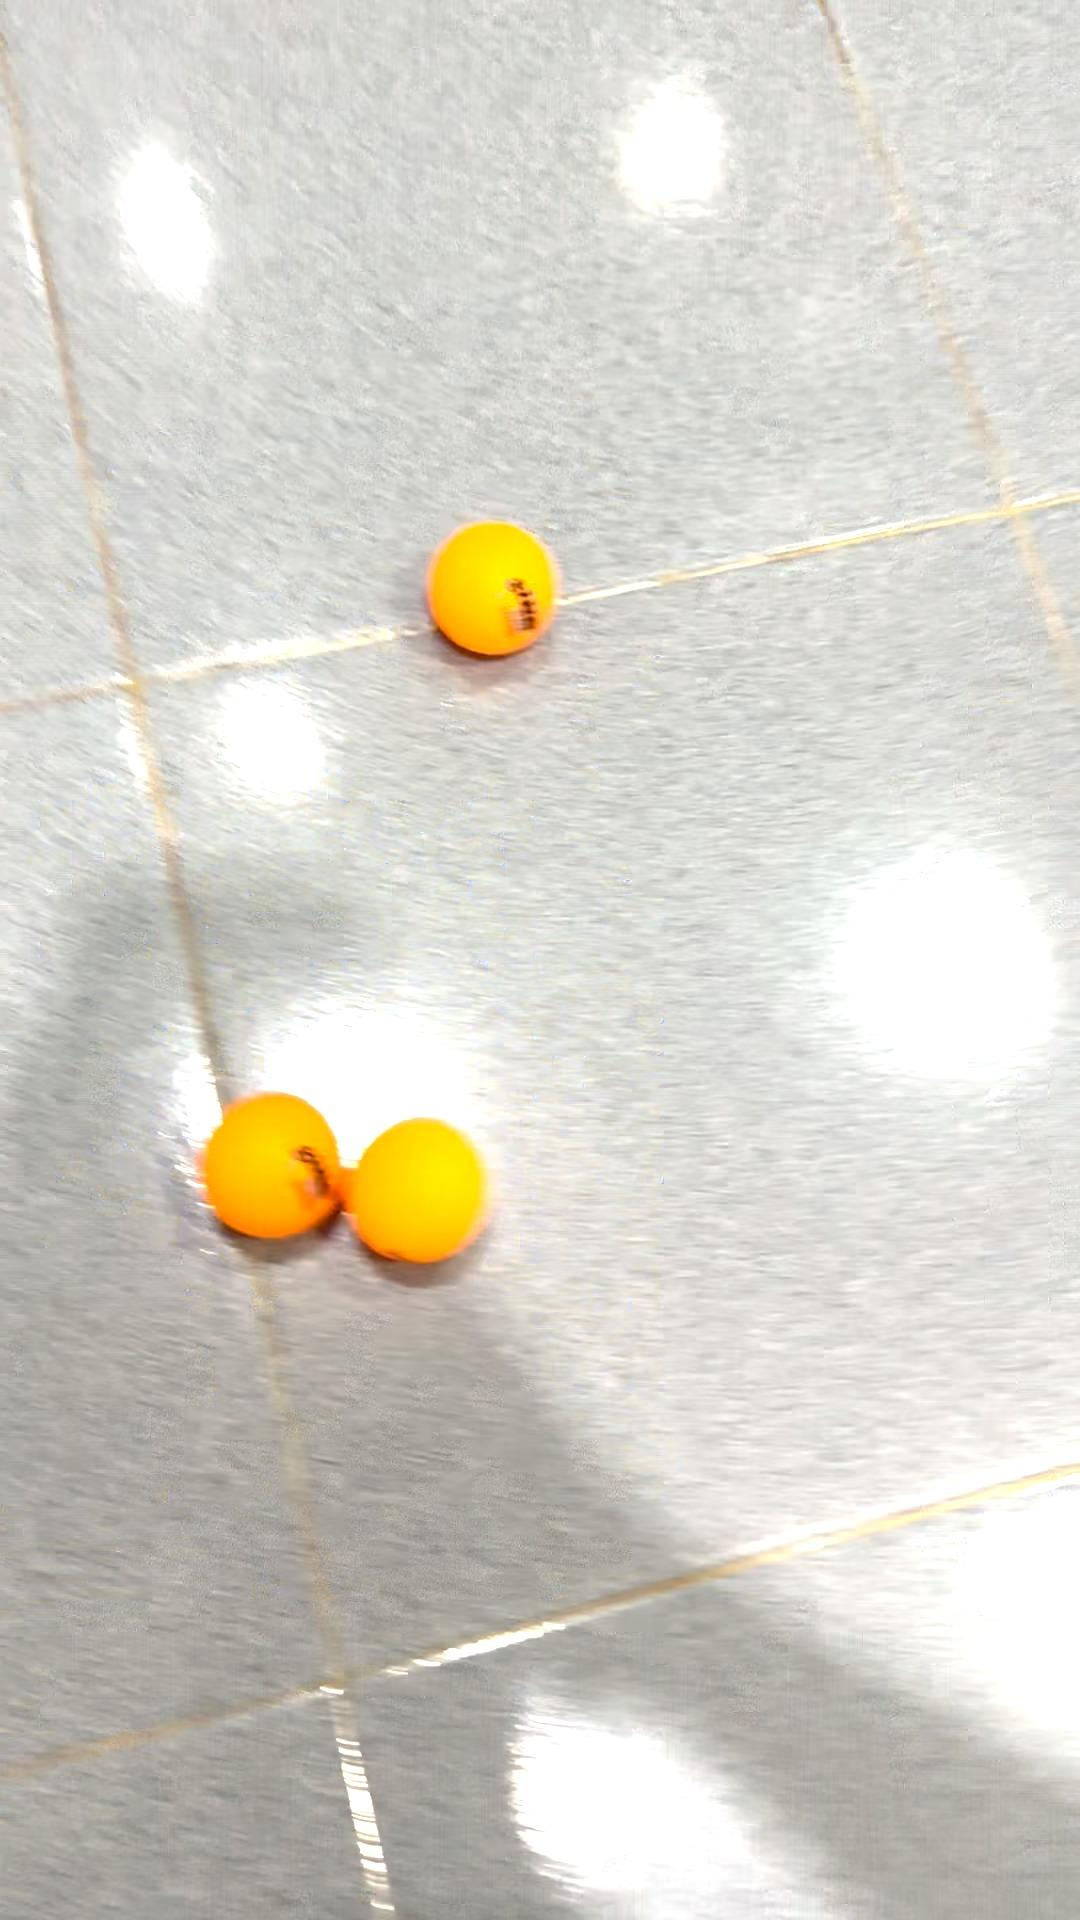oball: (348, 1118, 495, 1276), (202, 1084, 339, 1249), (419, 524, 571, 669)
